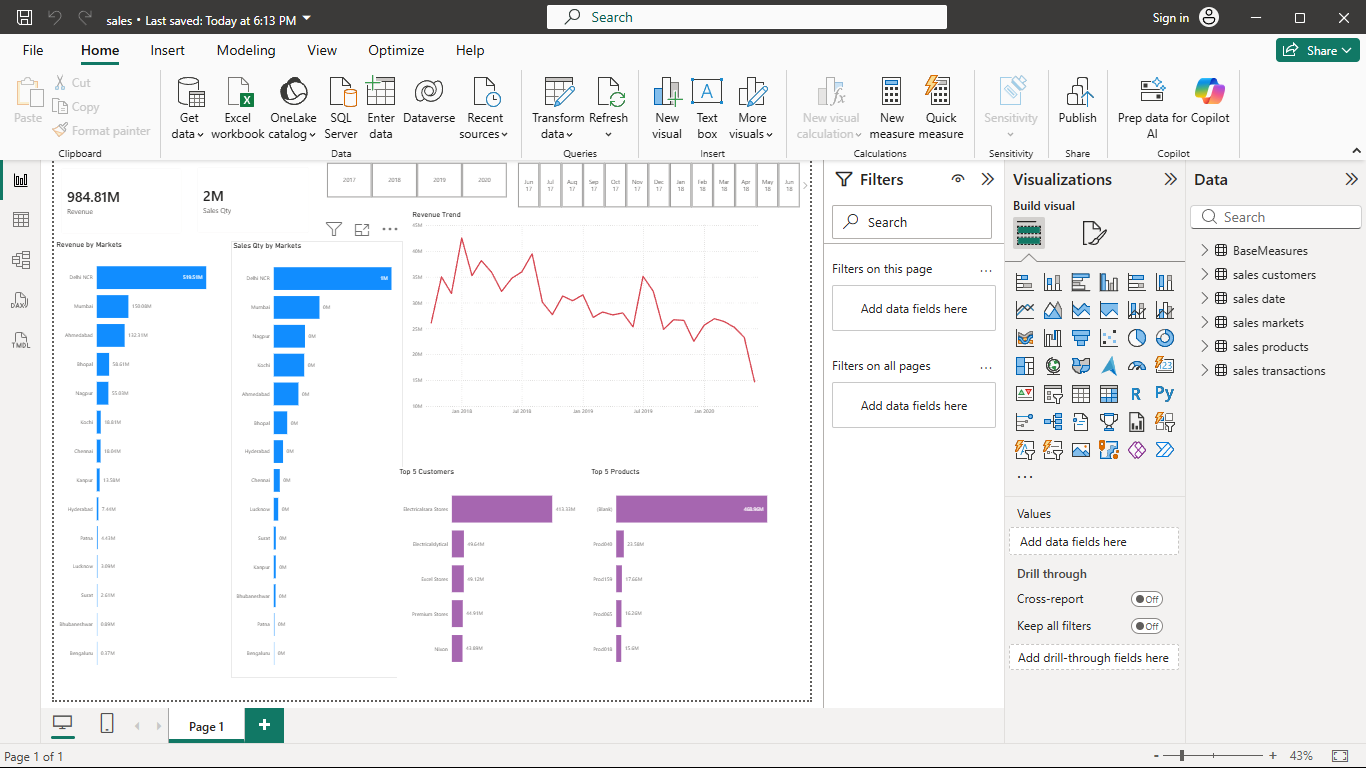

What the dashboard file says about the page in this screenshot:
{"tool":"powerbi","page":{"name":"Page 1","canvas":[1750,1250],"ordinal":0},"visuals":[{"type":"cardVisual","fields":{"Data":["BaseMeasures.Revenue"]},"box":[0,2.3,312.5,185.2],"z":0},{"type":"cardVisual","fields":{"Data":["BaseMeasures.Sales Qty"]},"box":[313.7,0,293.3,185.4],"z":1000},{"type":"barChart","title":"Revenue by Markets","fields":{"Y":["BaseMeasures.Revenue"],"Category":["sales markets.markets_name"]},"box":[0,184.4,408.9,1015.6],"z":2000},{"type":"barChart","title":"Sales Qty by Markets","fields":{"Y":["BaseMeasures.Sales Qty"],"Category":["sales markets.markets_name"]},"box":[408.9,186.7,400,1013.3],"z":3000},{"type":"slicer","fields":{"Values":["sales date.year"]},"box":[606.5,0,465.3,92.6],"z":4000},{"type":"slicer","fields":{"Values":["sales date.cy_date"]},"box":[1048.6,0,701.4,115.7],"z":5000},{"type":"barChart","title":"Top 5 Customers","fields":{"Y":["BaseMeasures.Revenue"],"Category":["sales customers.custmer_name"]},"box":[794,710.6,425.9,490.7],"z":6000},{"type":"barChart","title":"Top 5 Products","fields":{"Y":["BaseMeasures.Revenue"],"Category":["sales products.product_code"]},"box":[1238.4,710.6,467.6,490.7],"z":7000},{"type":"lineChart","title":"Revenue Trend","fields":{"Y":["BaseMeasures.Revenue"],"Category":["sales date.cy_date.Variation.Date Hierarchy.Year","sales date.cy_date.Variation.Date Hierarchy.Quarter","sales date.cy_date.Variation.Date Hierarchy.Month","sales date.cy_date.Variation.Date Hierarchy.Day"]},"box":[824.4,115.6,826.7,484.4],"z":8000}]}

Visuals, with their boxes on the page's 1750x1250 design canvas (x1, y1, x2, y2). These are canvas units, not pixel positions in the 1366x768 screenshot, which may show the page scaled, cropped or inside an application window:
cardVisual - BaseMeasures.Revenue: {"left": 0, "top": 2, "right": 312, "bottom": 188}
cardVisual - BaseMeasures.Sales Qty: {"left": 314, "top": 0, "right": 607, "bottom": 185}
"Revenue by Markets" barChart: {"left": 0, "top": 184, "right": 409, "bottom": 1200}
"Sales Qty by Markets" barChart: {"left": 409, "top": 187, "right": 809, "bottom": 1200}
slicer - sales date.year: {"left": 606, "top": 0, "right": 1072, "bottom": 93}
slicer - sales date.cy_date: {"left": 1049, "top": 0, "right": 1750, "bottom": 116}
"Top 5 Customers" barChart: {"left": 794, "top": 711, "right": 1220, "bottom": 1201}
"Top 5 Products" barChart: {"left": 1238, "top": 711, "right": 1706, "bottom": 1201}
"Revenue Trend" lineChart: {"left": 824, "top": 116, "right": 1651, "bottom": 600}
